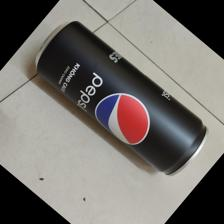Pepsi: (33, 15, 209, 184)
